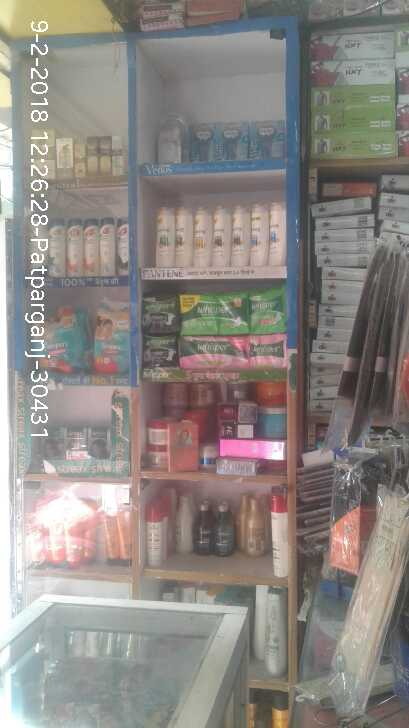venus: (156, 114, 188, 163), (250, 118, 284, 162), (214, 122, 250, 162), (188, 122, 214, 163)
